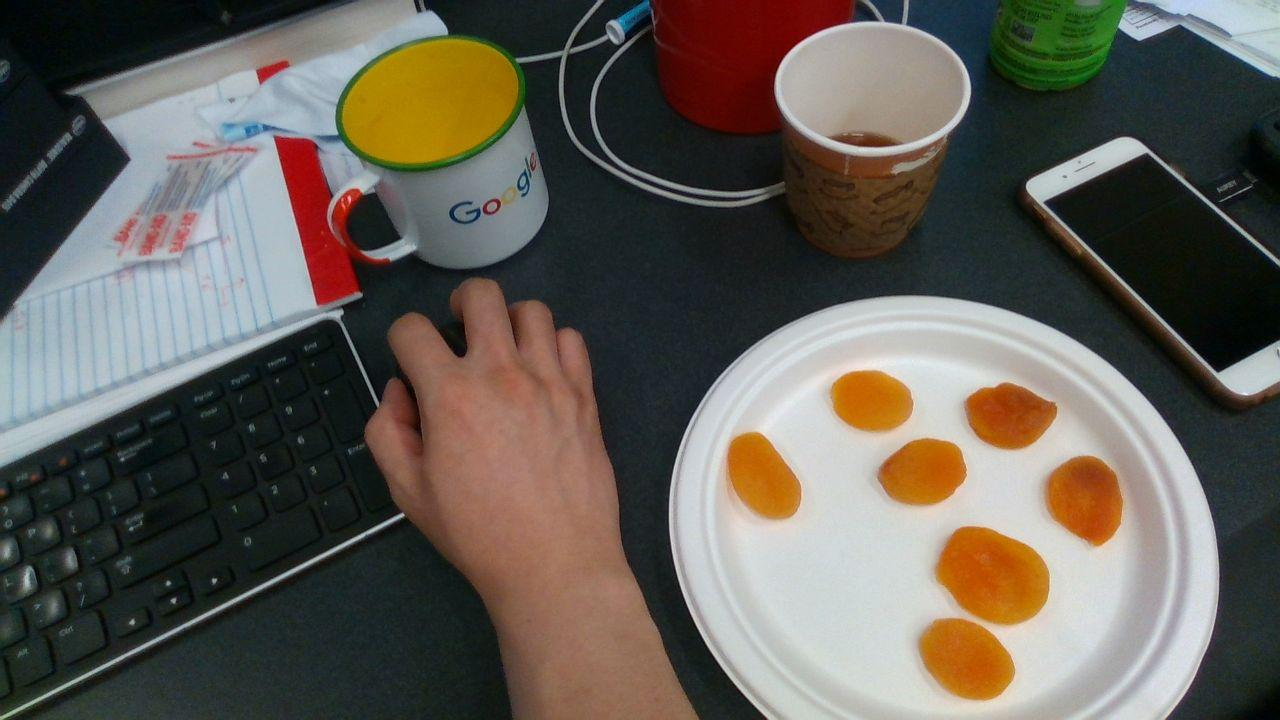apricot: (938, 526, 1050, 623), (919, 619, 1015, 700), (1049, 456, 1122, 544), (729, 433, 801, 518), (966, 382, 1057, 449), (880, 440, 966, 505), (834, 372, 912, 430)
plate: (669, 296, 1222, 720)
